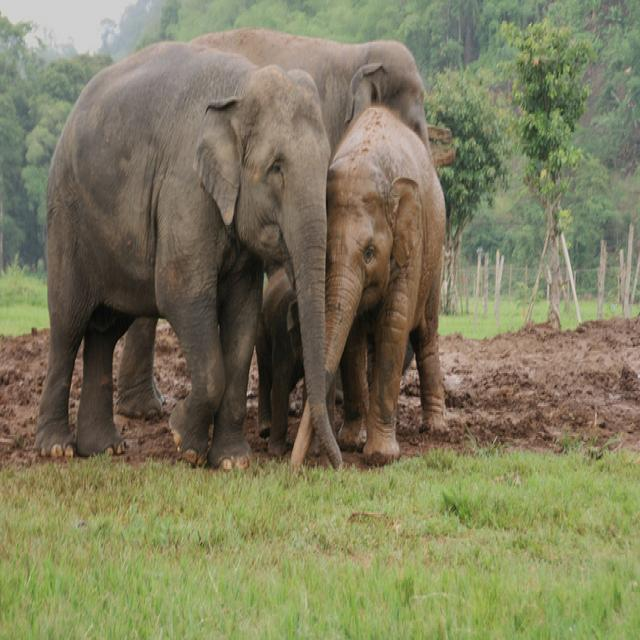Elephant: (34, 39, 343, 472), (255, 104, 448, 466)
